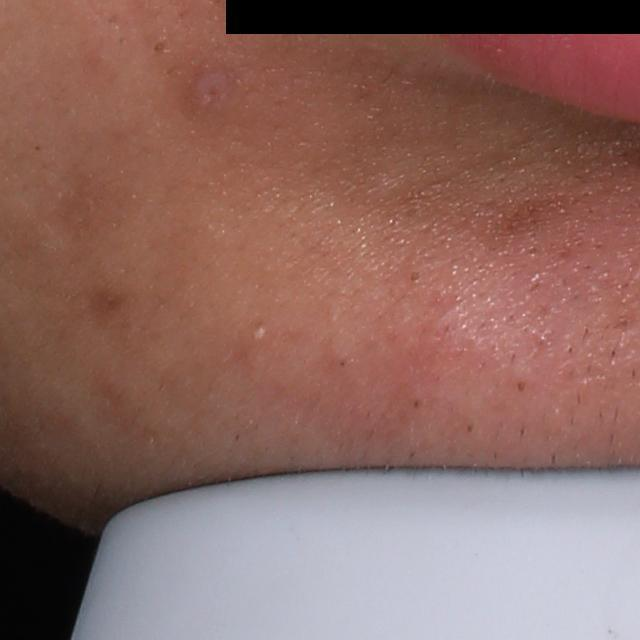comedo: (148, 34, 171, 57), (405, 270, 425, 287)
papule: (177, 54, 239, 118)
